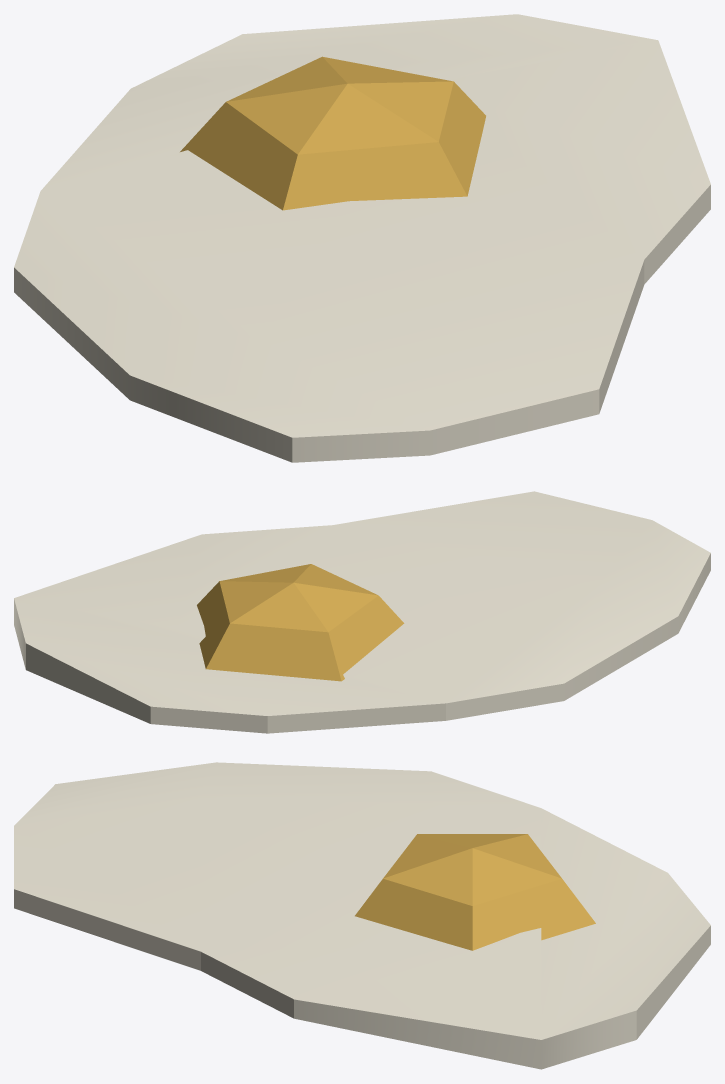
The model's file is egg.fbx.
3 views of the same model, one above another, from view 1: azimuth 30°, elevation 25°; view 2: azimuth 150°, elevation 25°; view 3: azimuth 270°, elevation 25° (orthographic). The views are drawn at different scales.
Visible parts, largest first — view 1: pSphere35; view 2: pSphere35; view 3: pSphere35.
Boxes of the visible parts, left/top/right/bottom form: pSphere35: left=14, top=14, right=710, bottom=462; pSphere35: left=14, top=491, right=710, bottom=733; pSphere35: left=14, top=762, right=710, bottom=1069.
Bounding box in the file's own units: 0.2023 × 0.0299 × 0.2146.
